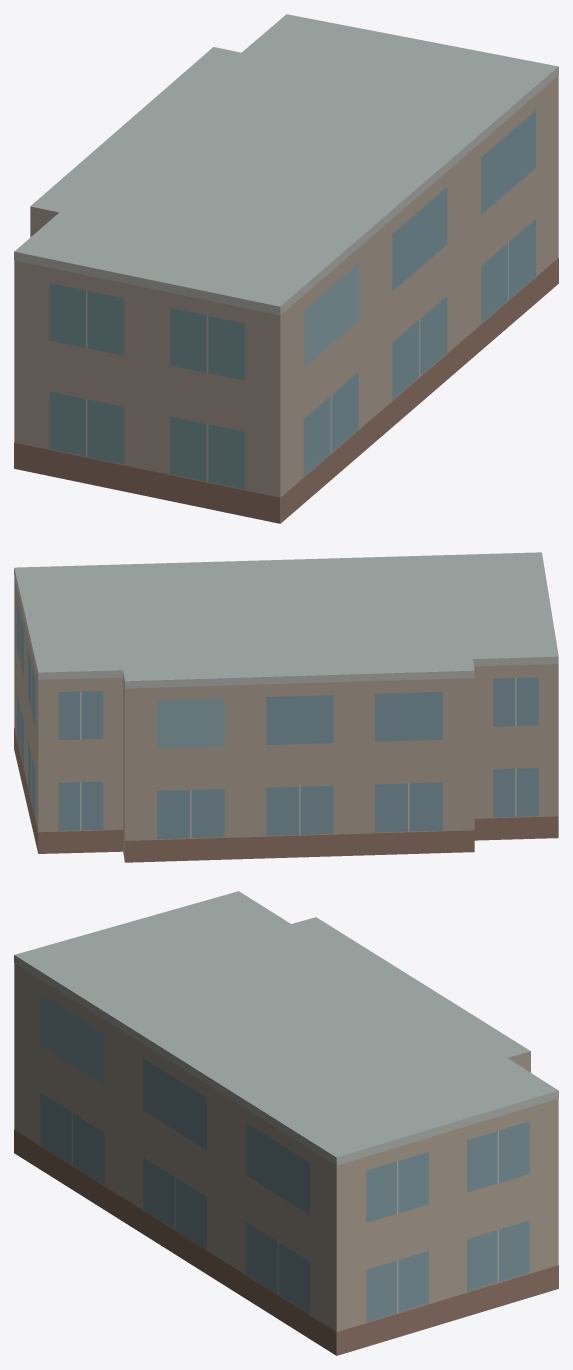
Rendered from survey-upis-32810706.glb.
3 views of the same model, one above another, from view 1: azimuth 30°, elevation 25°; view 2: azimuth 150°, elevation 25°; view 3: azimuth 270°, elevation 25° (orthographic). The views are drawn at different scales.
Parts seen in each view (by area): view 1: survey-upis-32810706.tmp; view 2: survey-upis-32810706.tmp; view 3: survey-upis-32810706.tmp.
Boxes of the visible parts, x1,y1,x2,y2 form: survey-upis-32810706.tmp: (14, 14, 558, 523); survey-upis-32810706.tmp: (14, 552, 558, 862); survey-upis-32810706.tmp: (14, 891, 558, 1355).
Bounding box in the file's own units: 17.61 × 6.1 × 15.2.
